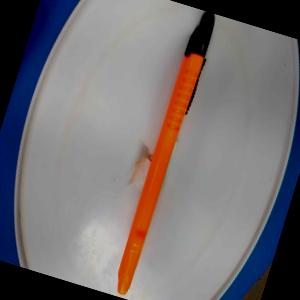estilete: (109, 7, 219, 298)
